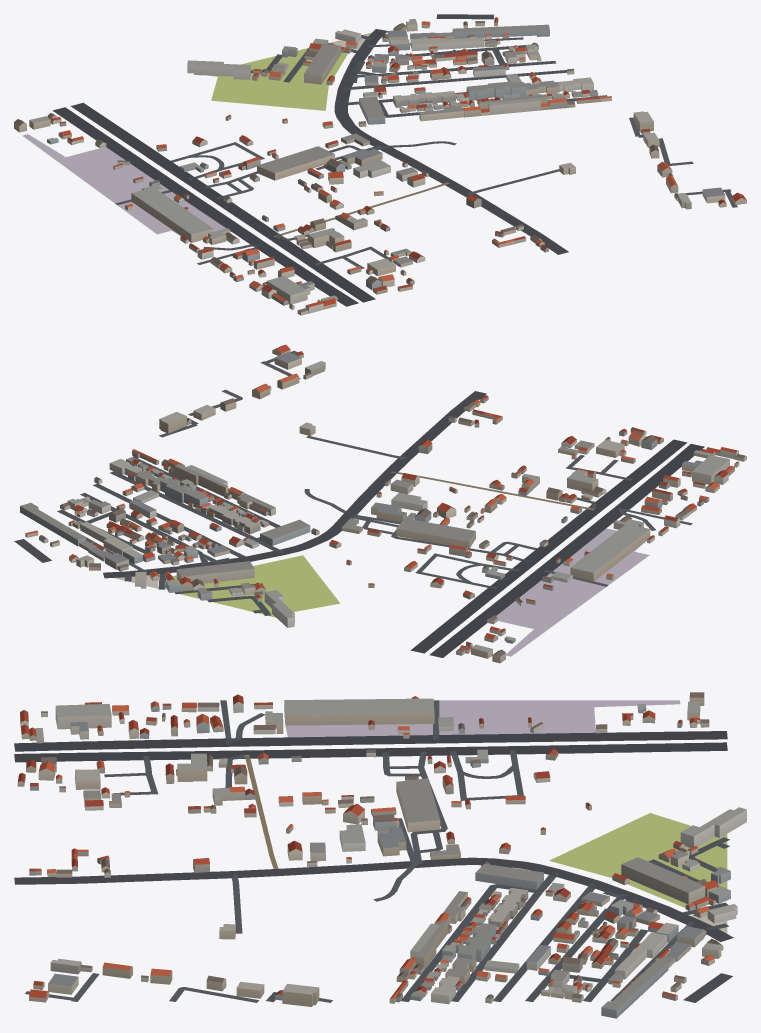
3 renders of one model, top to bottom at view 1: azimuth 30°, elevation 25°; view 2: azimuth 150°, elevation 25°; view 3: azimuth 270°, elevation 25°, orthographic. The views are drawn at different scales.
Visible parts, largest first — view 1: buildings_walls, buildings_roofs, roads, landuse; view 2: buildings_walls, buildings_roofs, roads, landuse; view 3: roads, buildings_roofs, buildings_walls, landuse.
Boxes of the visible parts, bbox=[...] form: buildings_walls: bbox=[14, 19, 746, 315]; buildings_roofs: bbox=[14, 17, 746, 312]; roads: bbox=[52, 14, 737, 306]; landuse: bbox=[22, 32, 371, 236]; buildings_walls: bbox=[20, 349, 746, 663]; buildings_roofs: bbox=[20, 344, 744, 656]; roads: bbox=[14, 350, 704, 657]; landuse: bbox=[114, 528, 649, 656]; roads: bbox=[14, 700, 733, 1002]; buildings_roofs: bbox=[18, 692, 746, 1010]; buildings_walls: bbox=[17, 696, 746, 1018]; landuse: bbox=[285, 700, 727, 933].
Bounding box in the file's own units: 528 × 9.78 × 514.
